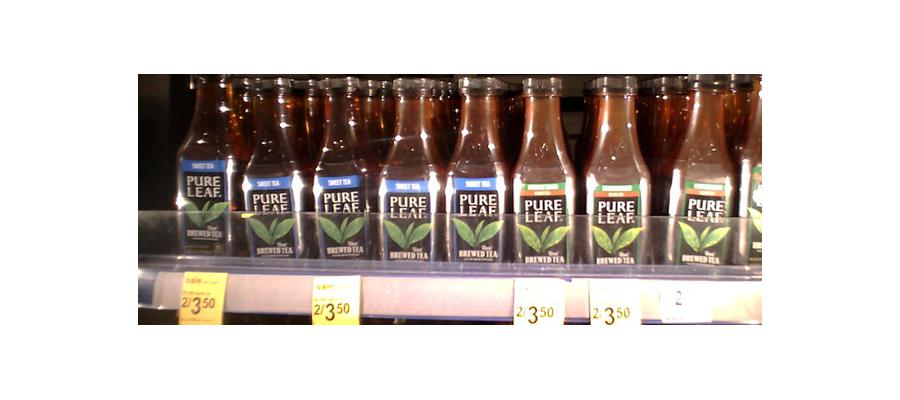bottle: (583, 70, 652, 268), (443, 71, 512, 269), (374, 71, 443, 266), (514, 69, 579, 272), (305, 74, 375, 261), (239, 67, 306, 259), (666, 81, 734, 269), (175, 67, 237, 260)
